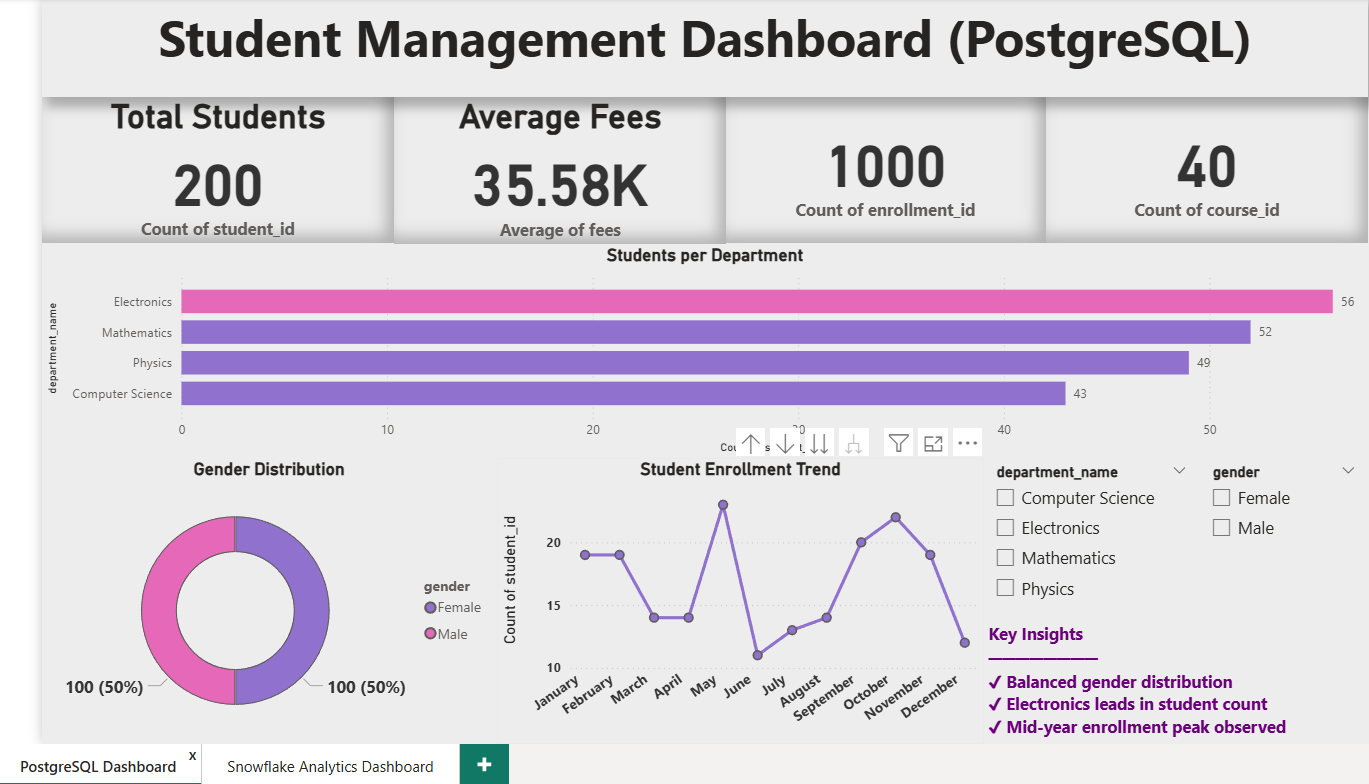

Layout of this report page (visuals, bound fields, positions):
{"tool":"powerbi","page":{"name":"PostgreSQL Dashboard","canvas":[1280,720],"ordinal":0},"visuals":[{"type":"card","title":"Total Students","fields":{"Values":["CountNonNull(public students_pg.student_id)"]},"box":[0,95.7,340,141.2],"z":0},{"type":"clusteredBarChart","title":"Students per Department","fields":{"Category":["public departments_pg.department_name"],"Y":["CountNonNull(public students_pg.student_id)"]},"box":[0,237.1,1280,207.1],"z":1000},{"type":"donutChart","title":"Gender Distribution","fields":{"Category":["public students_pg.gender"],"Y":["CountNonNull(public students_pg.student_id)"]},"box":[0,444.3,438.6,275.7],"z":2000},{"type":"lineChart","title":"Student Enrollment Trend","fields":{"Category":["public students_pg.join_date.Variation.Date Hierarchy.Year","public students_pg.join_date.Variation.Date Hierarchy.Quarter","public students_pg.join_date.Variation.Date Hierarchy.Month","public students_pg.join_date.Variation.Date Hierarchy.Day"],"Y":["CountNonNull(public students_pg.student_id)"]},"box":[438.6,444.3,470,275.7],"z":3000},{"type":"card","title":"Average Fees","fields":{"Values":["Avg(public students_pg.fees)"]},"box":[340,95.7,320,142.5],"z":4000},{"type":"slicer","fields":{"Values":["public departments_pg.department_name"]},"box":[908.6,444.3,208.6,152.9],"z":5000},{"type":"slicer","fields":{"Values":["public students_pg.gender"]},"box":[1117.1,444.3,162.9,152.9],"z":6000},{"type":"card","fields":{"Values":["CountNonNull(public enrollments_pg.enrollment_id)"]},"box":[660,95.7,308.6,141.4],"z":7000},{"type":"card","fields":{"Values":["CountNonNull(public courses_pg.course_id)"]},"box":[968.6,95.7,311.4,141.4],"z":8000},{"type":"textbox","box":[0,0,1280,95.7],"z":9000},{"type":"textbox","box":[908.6,597.1,371.4,122.9],"z":10000}]}

Visuals, with their boxes on the page's 1280x720 design canvas (x1, y1, x2, y2). These are canvas units, not pixel positions in the 1369x784 screenshot, which may show the page scaled, cropped or inside an application window:
"Total Students" card: <box>0,96,340,237</box>
"Students per Department" clusteredBarChart: <box>0,237,1280,444</box>
"Gender Distribution" donutChart: <box>0,444,439,720</box>
"Student Enrollment Trend" lineChart: <box>439,444,909,720</box>
"Average Fees" card: <box>340,96,660,238</box>
slicer - public departments_pg.department_name: <box>909,444,1117,597</box>
slicer - public students_pg.gender: <box>1117,444,1280,597</box>
card - CountNonNull(public enrollments_pg.enrollment_id): <box>660,96,969,237</box>
card - CountNonNull(public courses_pg.course_id): <box>969,96,1280,237</box>
textbox: <box>0,0,1280,96</box>
textbox: <box>909,597,1280,720</box>
